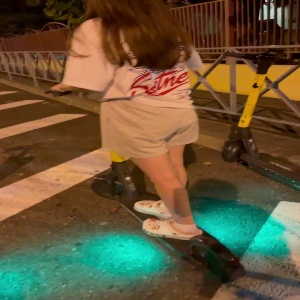human on a scooter: (42, 1, 247, 285)
